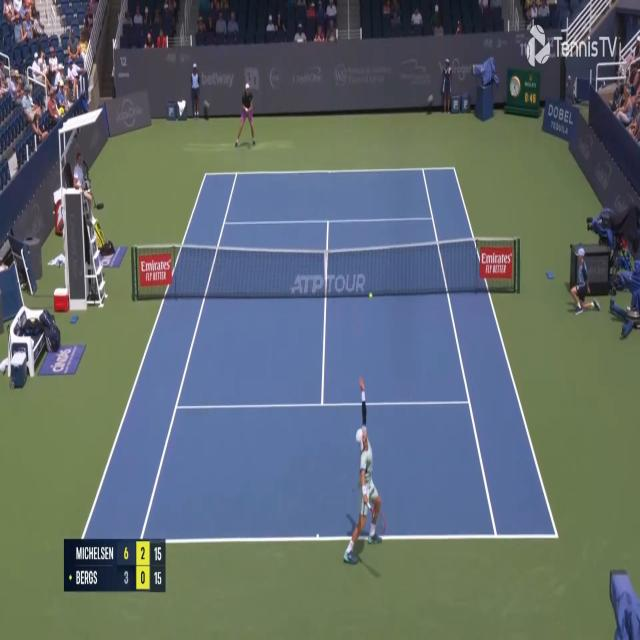tennis-player: (342, 369, 388, 574), (235, 82, 258, 150)
